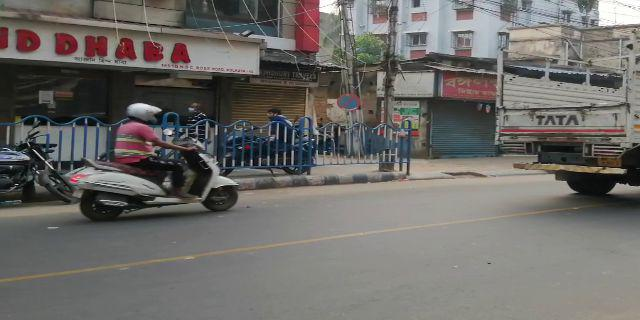Motorbike: (66, 103, 237, 218)
Truck: (497, 28, 640, 198)
